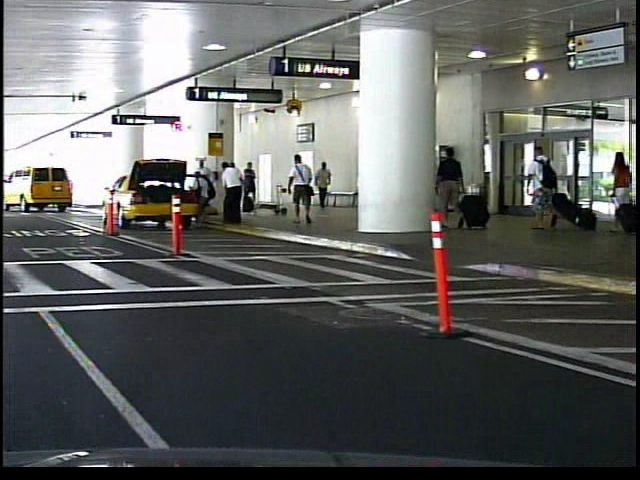person: (518, 142, 559, 233), (599, 145, 634, 231), (434, 141, 463, 230), (282, 151, 314, 225), (313, 159, 332, 209)
